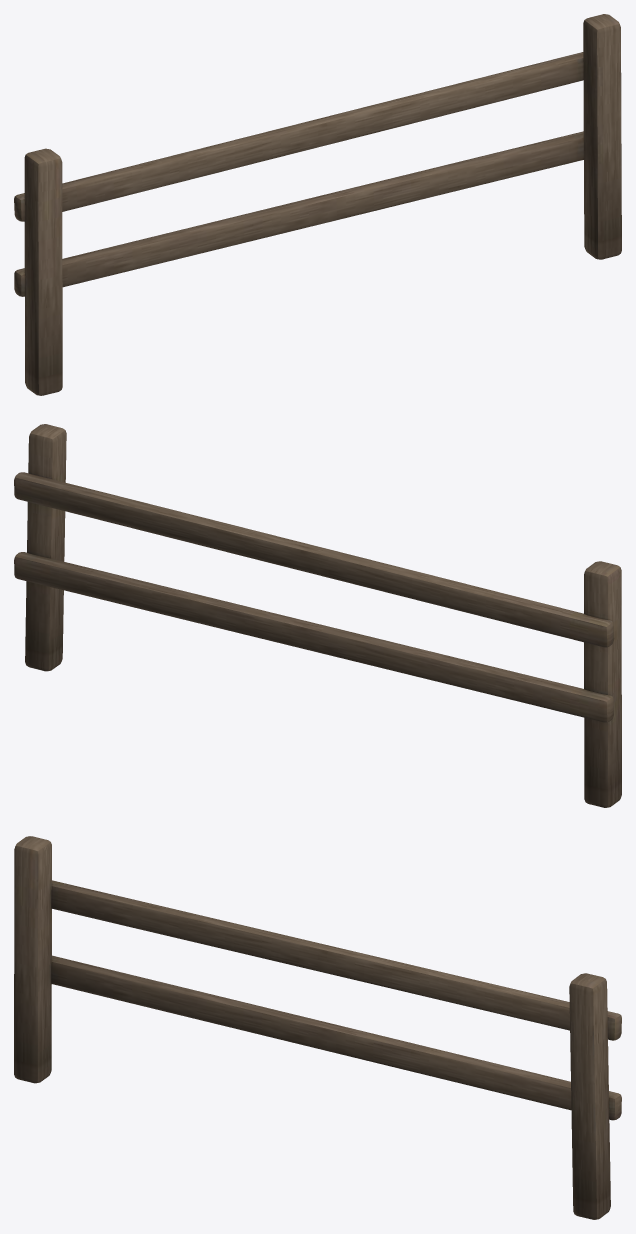
Rendered from fence.glb.
3 renders of one model, top to bottom at view 1: azimuth 30°, elevation 25°; view 2: azimuth 150°, elevation 25°; view 3: azimuth 330°, elevation 25°, orthographic.
Parts seen in each view (by area): view 1: fence; view 2: fence; view 3: fence.
Boxes of the visible parts, x1,y1,x2,y2 form: fence: [14, 14, 621, 395]; fence: [14, 424, 621, 807]; fence: [14, 836, 621, 1219].
Bounding box in the file's own units: 3.3 × 1.25 × 0.2216.
1 material, 1 textured.
